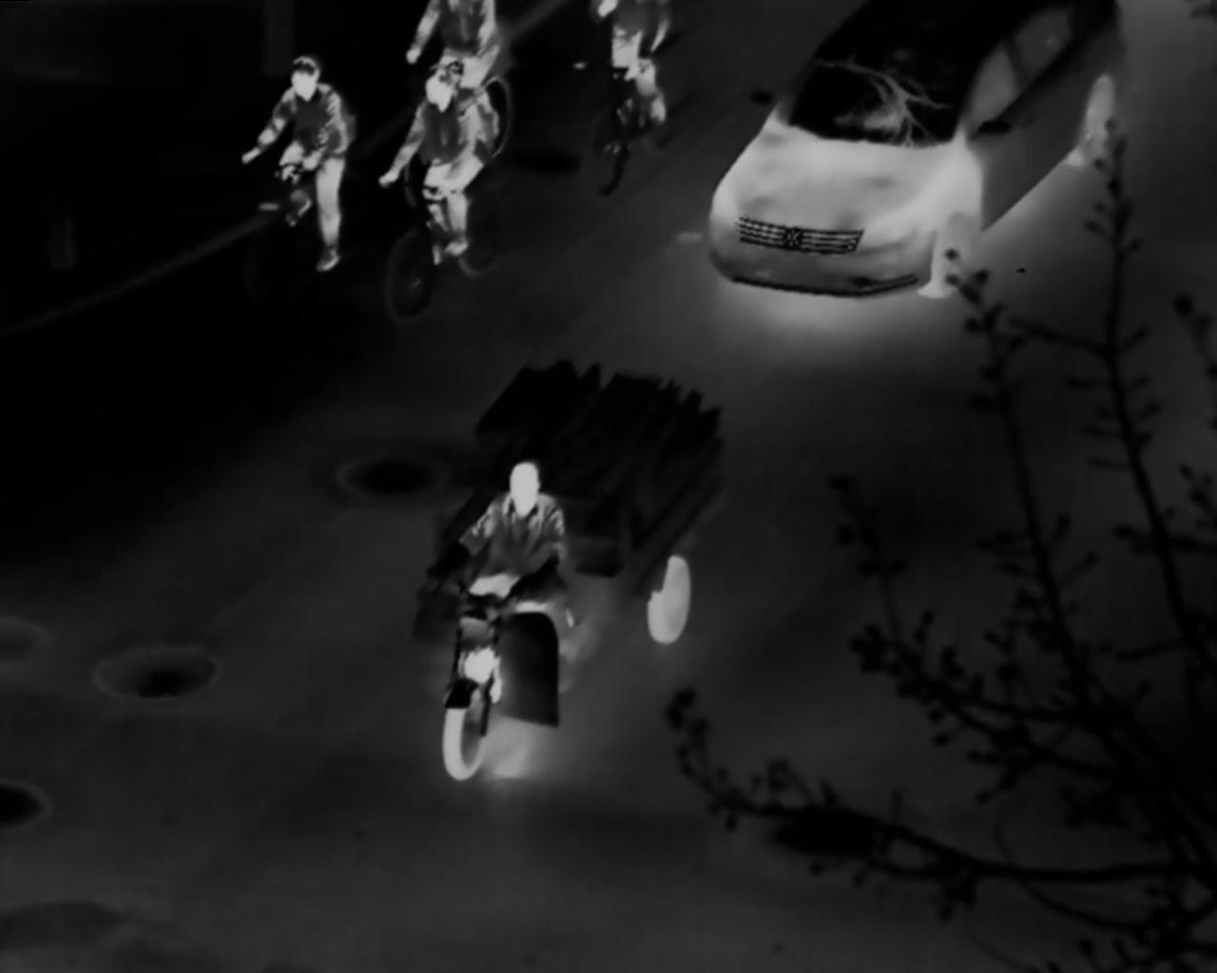person: (377, 65, 499, 265), (242, 55, 351, 272), (459, 459, 573, 635)
